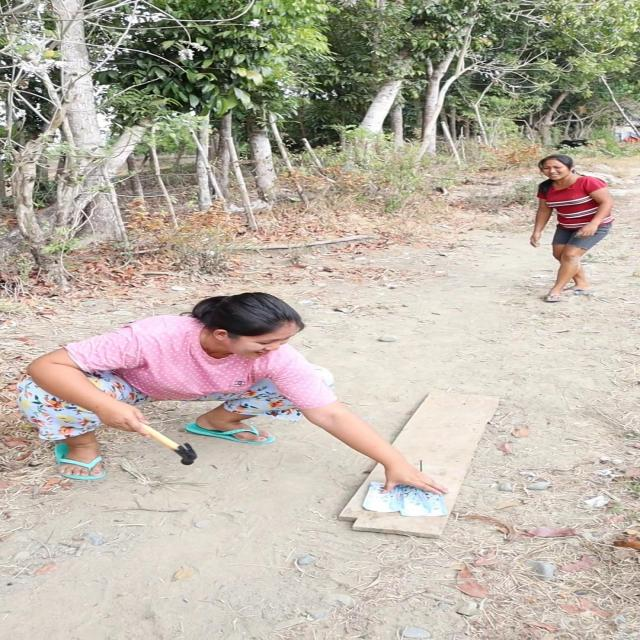hammer: (112, 412, 202, 467)
